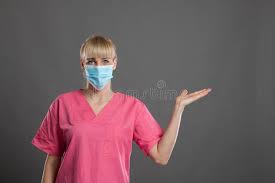mask: (81, 38, 117, 90)
